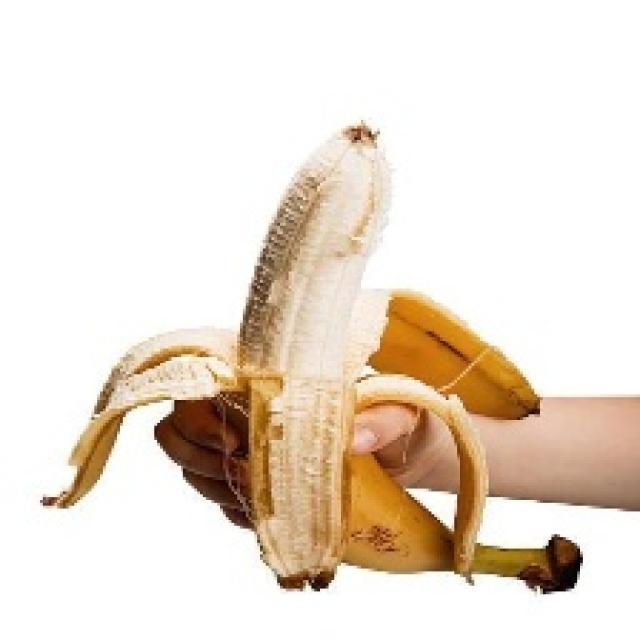Banana: (40, 117, 583, 594)
